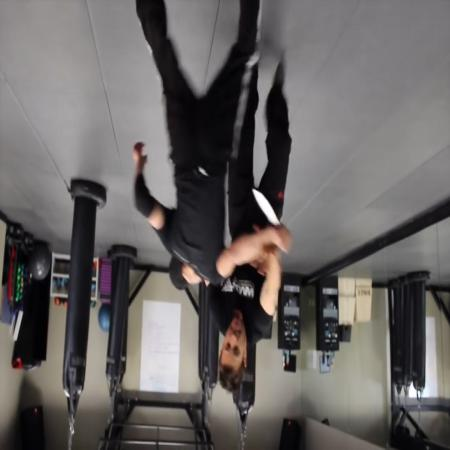long weapon: (249, 185, 292, 256)
